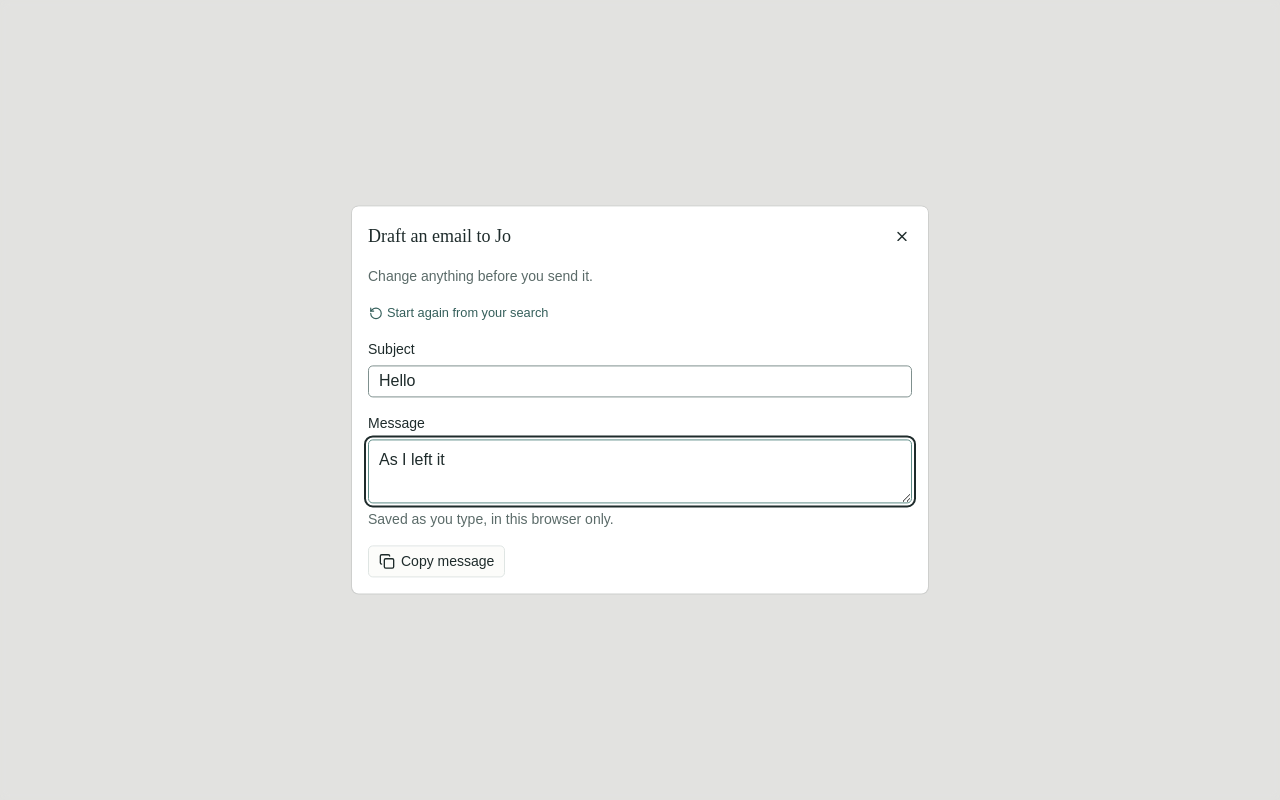
Scenario: EmailDrafter › starts again from the search once the visitor confirms, forgetting their edit, with focus on the first chip once it shows
The width and height of the screenshot is (1280, 800).
Step 1. Click the button "Start again from your search" → (459, 313), box [368,302,550,324]
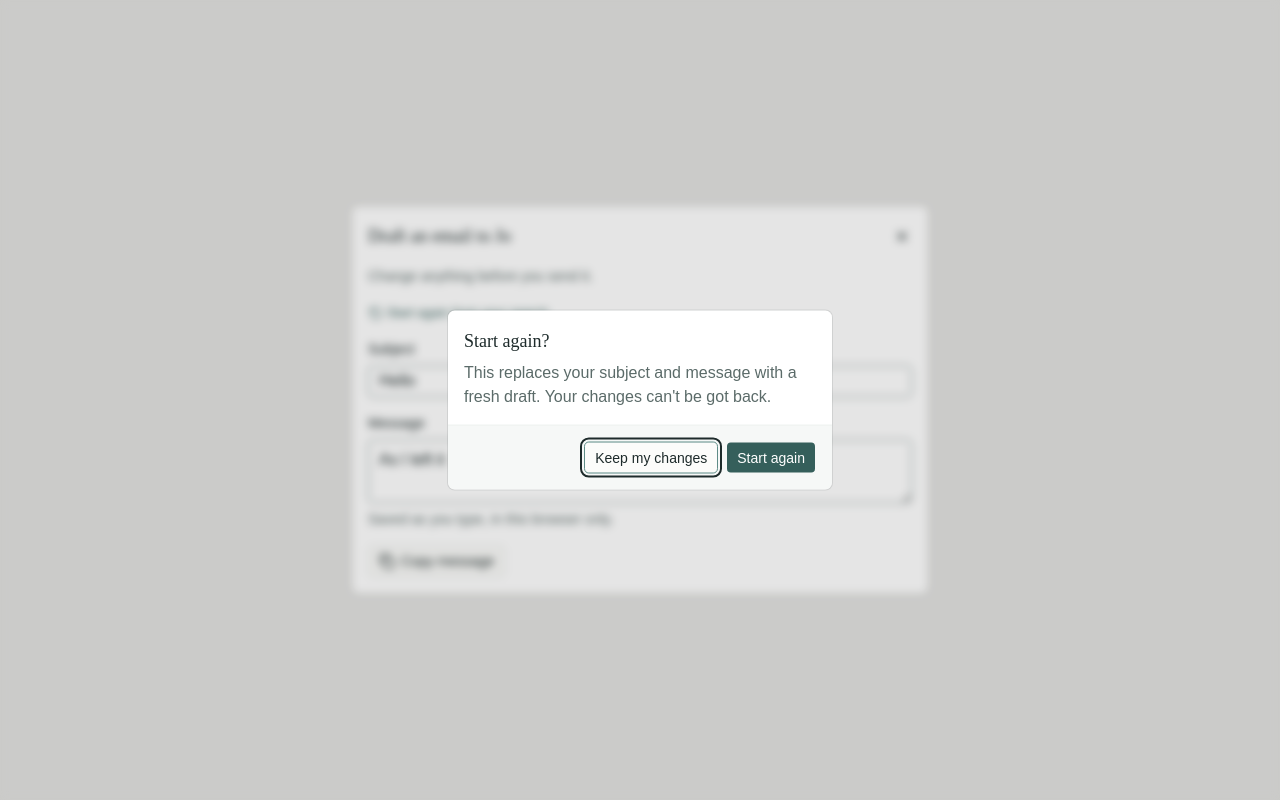
Step 2. Click the button "Start again" → (771, 458), box [726,442,816,474]
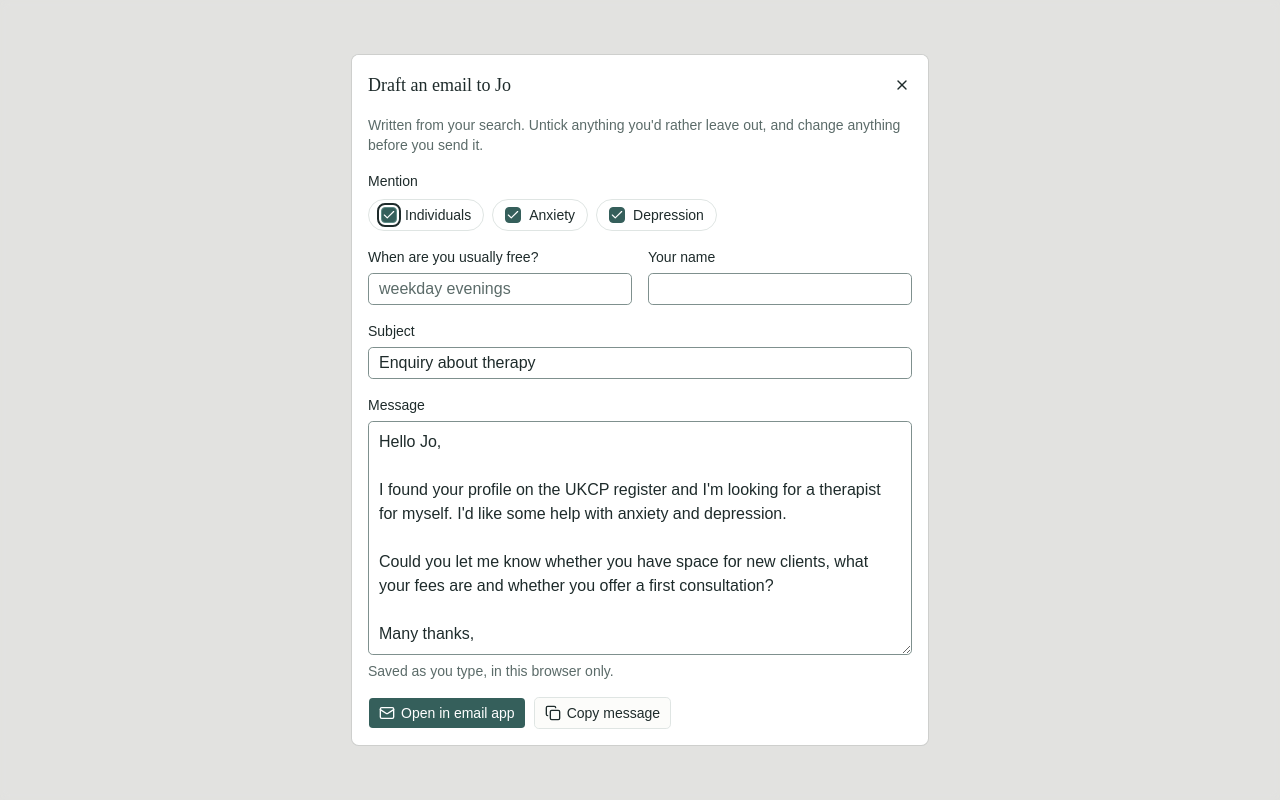
Result: the number of checkboxes is 3 at [381,207,397,223]; [505,207,521,223]; [609,207,625,223]
